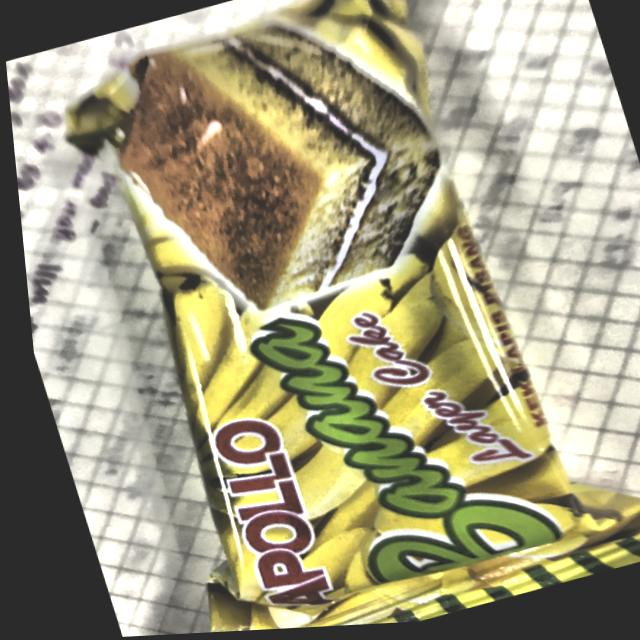Plastic: (52, 0, 640, 638)
